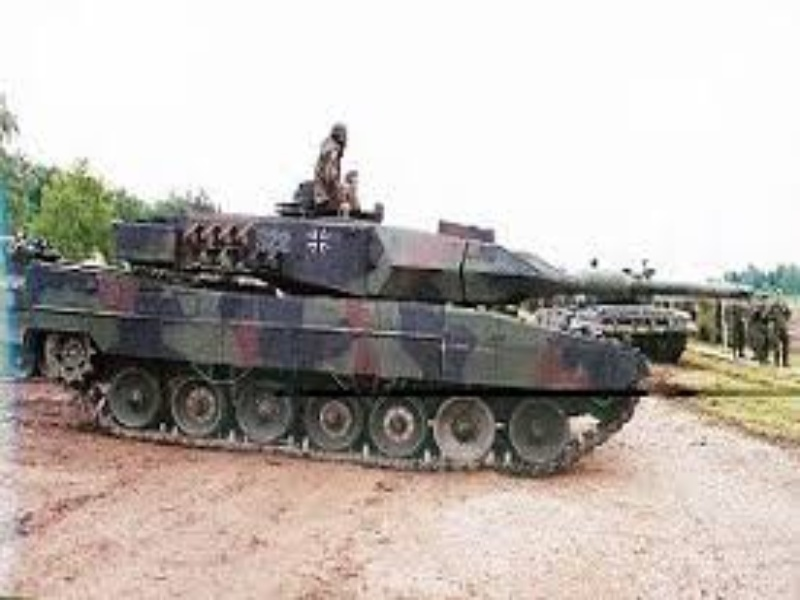tank: (19, 215, 759, 475)
